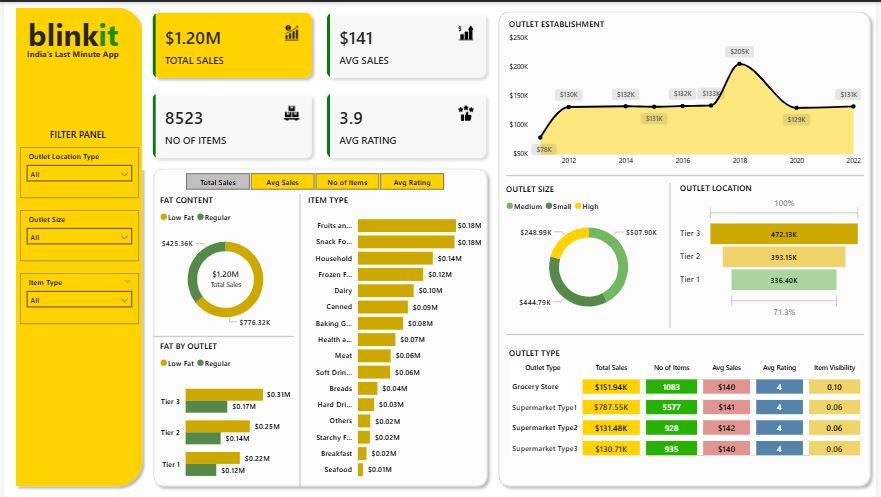

What the dashboard file says about the page in this screenshot:
{"tool":"powerbi","page":{"name":"Page 1","canvas":[1400,800],"ordinal":0},"visuals":[{"type":"shape","box":[9.6,0,221.7,787.1],"z":0},{"type":"textbox","box":[33.7,14.5,157.4,77.1],"z":1000},{"type":"textbox","box":[32.1,69.1,171.9,32.1],"z":2000},{"type":"cardVisual","fields":{"Data":["BlinkIT Grocery Data.Total Sales","BlinkIT Grocery Data.Avg Sales","BlinkIT Grocery Data.No of Items","BlinkIT Grocery Data.Avg Rating"]},"box":[221.7,0,570.3,269.9],"z":3000},{"type":"shape","box":[231.3,258.6,554.2,528.5],"z":4000},{"type":"donutChart","title":"FAT CONTENT","fields":{"Y":["BlinkIT Grocery Data.Total Sales"],"Category":["BlinkIT Grocery Data.Item Fat Content"]},"box":[245.8,308.4,220.1,229.7],"z":5000},{"type":"slicer","fields":{"Values":["Metrics.Metrics"]},"box":[266.7,268.3,464.3,40.2],"z":6000},{"type":"cardVisual","fields":{"Data":["BlinkIT Grocery Data.Total Sales"]},"box":[313.3,411.2,86.7,54.6],"z":7000},{"type":"clusteredBarChart","title":"FAT BY OUTLET","fields":{"Y":["BlinkIT Grocery Data.Total Sales"],"Category":["BlinkIT Grocery Data.Outlet Location Type"],"Series":["BlinkIT Grocery Data.Item Fat Content"]},"box":[245.8,543,220.1,245.8],"z":8000},{"type":"shape","box":[239.4,512.4,226.5,49.8],"z":9000},{"type":"shape","box":[343.8,308.4,263.5,470.7],"z":10000},{"type":"barChart","title":"ITEM TYPE","fields":{"Y":["BlinkIT Grocery Data.Total Sales"],"Category":["BlinkIT Grocery Data.Item Type"]},"box":[483.5,308.4,289.2,469.1],"z":11000},{"type":"shape","box":[785.5,6.4,615.3,780.7],"z":12000},{"type":"lineChart","title":"OUTLET ESTABLISHMENT","fields":{"Y":["BlinkIT Grocery Data.Total Sales"],"Category":["BlinkIT Grocery Data.Outlet Establishment Year"]},"box":[806.4,25.7,575.1,247.4],"z":13000},{"type":"shape","box":[806.4,253.8,575.1,49.8],"z":14000},{"type":"donutChart","title":"OUTLET SIZE","fields":{"Y":["BlinkIT Grocery Data.Total Sales"],"Category":["BlinkIT Grocery Data.Outlet Size"]},"box":[801.6,290.8,275,225],"z":15000},{"type":"shape","box":[938.2,290.8,263.5,232.9],"z":16000},{"type":"funnel","title":"OUTLET LOCATION","fields":{"Y":["Sum(BlinkIT Grocery Data.Sales)"],"Category":["BlinkIT Grocery Data.Outlet Location Type"]},"box":[1081.1,289.2,300.4,223.3],"z":17000},{"type":"shape","box":[806.4,509.2,575.1,49.8],"z":18000},{"type":"pivotTable","title":"OUTLET TYPE","fields":{"Rows":["BlinkIT Grocery Data.Outlet Type"],"Values":["BlinkIT Grocery Data.Total Sales","BlinkIT Grocery Data.No of Items","BlinkIT Grocery Data.Avg Sales","BlinkIT Grocery Data.Avg Rating","Avg(BlinkIT Grocery Data.Item Visibility)"]},"box":[806.4,554.2,575.1,215.3],"z":19000},{"type":"slicer","fields":{"Values":["BlinkIT Grocery Data.Outlet Location Type"]},"box":[25.7,232.9,191.2,81.9],"z":20000},{"type":"slicer","fields":{"Values":["BlinkIT Grocery Data.Outlet Size"]},"box":[25.7,334.1,191.2,81.9],"z":21000},{"type":"slicer","fields":{"Values":["BlinkIT Grocery Data.Item Type"]},"box":[25.7,435.3,191.2,81.9],"z":22000},{"type":"textbox","box":[61,197.6,115.7,35.3],"z":23000}]}

Visuals, with their boxes in screenshot pixels (x1, y1, x2, y2), scaled from the page's 1400x800 canvas onto the 881x497 screenshot:
shape: [x1=6, y1=0, x2=146, y2=489]
textbox: [x1=21, y1=9, x2=120, y2=57]
textbox: [x1=20, y1=43, x2=128, y2=63]
cardVisual - BlinkIT Grocery Data.Total Sales x BlinkIT Grocery Data.Avg Sales: [x1=140, y1=0, x2=498, y2=168]
shape: [x1=146, y1=161, x2=494, y2=489]
"FAT CONTENT" donutChart: [x1=155, y1=192, x2=293, y2=334]
slicer - Metrics.Metrics: [x1=168, y1=167, x2=460, y2=192]
cardVisual - BlinkIT Grocery Data.Total Sales: [x1=197, y1=255, x2=252, y2=289]
"FAT BY OUTLET" clusteredBarChart: [x1=155, y1=337, x2=293, y2=490]
shape: [x1=151, y1=318, x2=293, y2=349]
shape: [x1=216, y1=192, x2=382, y2=484]
"ITEM TYPE" barChart: [x1=304, y1=192, x2=486, y2=483]
shape: [x1=494, y1=4, x2=880, y2=489]
"OUTLET ESTABLISHMENT" lineChart: [x1=507, y1=16, x2=869, y2=170]
shape: [x1=507, y1=158, x2=869, y2=189]
"OUTLET SIZE" donutChart: [x1=504, y1=181, x2=677, y2=320]
shape: [x1=590, y1=181, x2=756, y2=325]
"OUTLET LOCATION" funnel: [x1=680, y1=180, x2=869, y2=318]
shape: [x1=507, y1=316, x2=869, y2=347]
"OUTLET TYPE" pivotTable: [x1=507, y1=344, x2=869, y2=478]
slicer - BlinkIT Grocery Data.Outlet Location Type: [x1=16, y1=145, x2=136, y2=196]
slicer - BlinkIT Grocery Data.Outlet Size: [x1=16, y1=208, x2=136, y2=258]
slicer - BlinkIT Grocery Data.Item Type: [x1=16, y1=270, x2=136, y2=321]
textbox: [x1=38, y1=123, x2=111, y2=145]
